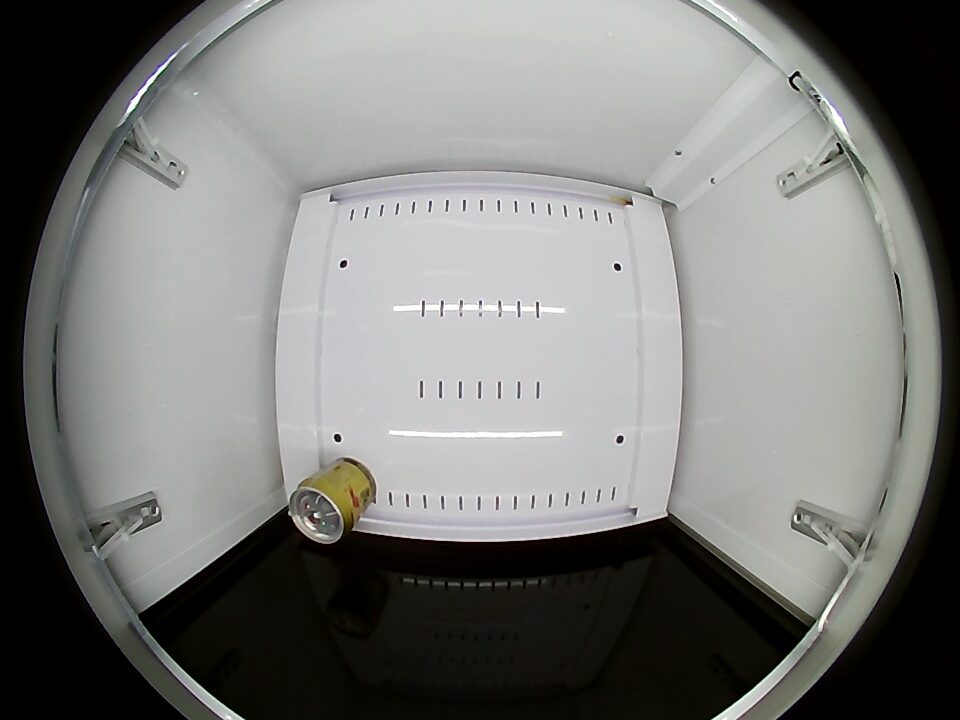hongniu2: (289, 476, 360, 544)
